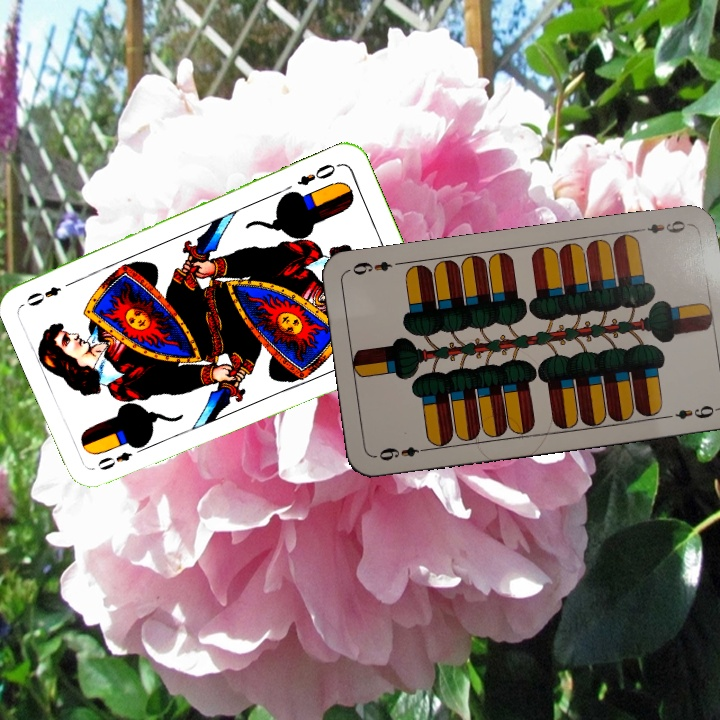E9: (371, 443, 430, 464), (633, 216, 693, 236)
EO: (93, 441, 148, 473), (293, 159, 342, 188)
